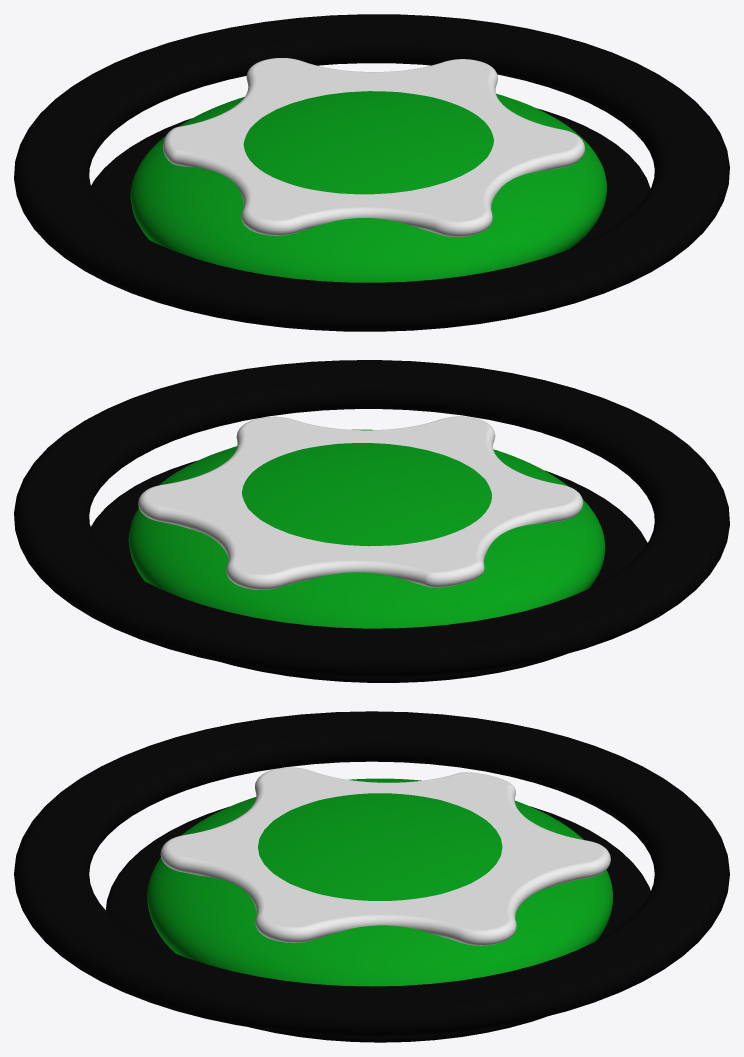
Rendered from receptorGREEN.glb.
3 renders of one model, top to bottom at view 1: azimuth 30°, elevation 25°; view 2: azimuth 150°, elevation 25°; view 3: azimuth 270°, elevation 25°, orthographic.
Visible parts, largest first — view 1: Ellipse 4.001, Sphere 3, Star 3, Ellipse 4; view 2: Ellipse 4.001, Sphere 3, Star 3, Ellipse 4; view 3: Ellipse 4.001, Sphere 3, Star 3, Ellipse 4.
Boxes of the visible parts, box(x1,y1,x2,y2) form: Ellipse 4.001: box(14, 14, 729, 331); Sphere 3: box(130, 91, 606, 282); Star 3: box(163, 58, 584, 236); Ellipse 4: box(91, 108, 650, 329); Ellipse 4.001: box(14, 360, 729, 677); Sphere 3: box(128, 429, 605, 628); Star 3: box(138, 416, 583, 589); Ellipse 4: box(91, 460, 647, 682); Ellipse 4.001: box(14, 711, 729, 1036); Sphere 3: box(147, 778, 612, 986); Star 3: box(160, 767, 610, 945); Ellipse 4: box(106, 806, 650, 1042).
Bounding box in the file's own units: 4.3 × 0.766 × 4.23.
